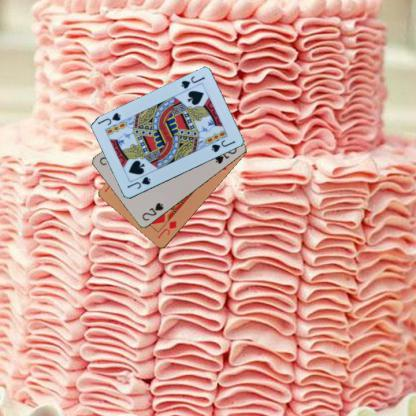2s: (139, 200, 165, 222)
Jd: (155, 218, 178, 240)
Js: (179, 74, 206, 90), (124, 175, 152, 190)
